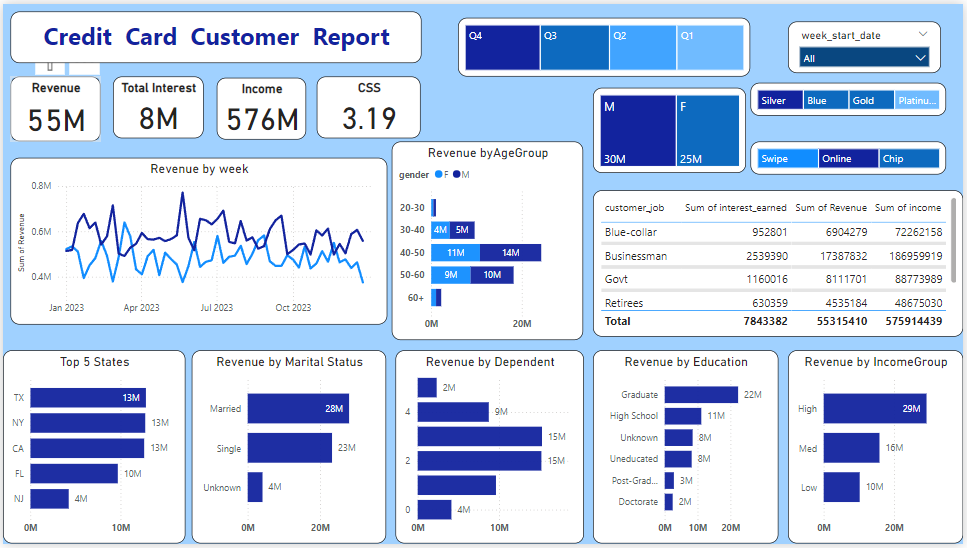

The dashboard page shown, as its layout file describes it:
{"tool":"powerbi","page":{"name":"Page 2","canvas":[1280,720],"ordinal":2},"visuals":[{"type":"tableEx","fields":{"Values":["public cust_detail.customer_job","Sum(public cc_detail.interest_earned)","Sum(public cc_detail.Revenue)","Sum(public cust_detail.income)"]},"box":[786.3,248.4,494,194.9],"z":0},{"type":"card","title":"Revenue","fields":{"Values":["Sum(public cc_detail.Revenue)"]},"box":[9.6,96.1,120,86.4],"z":1000},{"type":"card","title":"Income","fields":{"Values":["Sum(public cust_detail.income)"]},"box":[284.7,97.7,119.4,82],"z":2000},{"type":"card","title":"Total Interest","fields":{"Values":["Sum(public cc_detail.interest_earned)"]},"box":[147.2,96.5,120.6,82],"z":3000},{"type":"card","title":"CSS","fields":{"Values":["Avg(public cust_detail.cust_satisfaction_score)"]},"box":[418.6,96.5,138.7,82],"z":4000},{"type":"slicer","fields":{"Values":["public cc_detail.week_start_date"]},"box":[1047.2,24.1,203.9,68.8],"z":5000},{"type":"treemap","fields":{"Group":["public cc_detail.qtr"],"Values":["Avg(public cc_detail.client_num)"]},"box":[606.8,18.1,389.7,78.4],"z":6000},{"type":"treemap","fields":{"Group":["public cc_detail.card_category"],"Values":["Avg(public cc_detail.client_num)"]},"box":[996.2,105.7,260.7,43.9],"z":8000},{"type":"textbox","box":[9.7,9.7,547.7,68.8],"z":10000},{"type":"lineChart","title":"Revenue by week","fields":{"Y":["Sum(public cc_detail.Revenue)"],"Category":["public cc_detail.week_start_date.Variation.Date Hierarchy.Year","public cc_detail.week_start_date.Variation.Date Hierarchy.Month","public cc_detail.week_start_date.Variation.Date Hierarchy.Day"],"Series":["public cust_detail.gender"]},"box":[9.6,204.5,502.2,222.3],"z":11000},{"type":"treemap","fields":{"Group":["public cust_detail.gender"],"Values":["Sum(public cc_detail.Revenue)"]},"box":[786.6,112.2,203.9,113.4],"z":12000},{"type":"barChart","title":" Revenue by IncomeGroup","fields":{"Category":["public cust_detail.IncomeGroup"],"Y":["Sum(public cc_detail.Revenue)"]},"box":[1047,461.1,233.3,258],"z":13000},{"type":"barChart","title":"Revenue byAgeGroup","fields":{"Category":["public cust_detail.AgeGroup"],"Y":["Sum(public cc_detail.Revenue)"],"Series":["public cust_detail.gender"]},"box":[518.7,182.5,255.2,264.8],"z":14000},{"type":"barChart","title":"Revenue by Dependent","fields":{"Category":["public cust_detail.dependent_count"],"Y":["Sum(public cc_detail.Revenue)"]},"box":[522.8,461.1,251.1,258],"z":15000},{"type":"barChart","title":" Revenue by Education","fields":{"Category":["public cust_detail.education_level"],"Y":["Sum(public cc_detail.Revenue)"]},"box":[786.3,461.1,247,258],"z":16000},{"type":"barChart","title":"Top 5 States","fields":{"Category":["public cust_detail.state_cd"],"Y":["Sum(public cc_detail.Revenue)"]},"box":[0,462.4,242.9,258],"z":17000},{"type":"barChart","title":"Revenue by Marital Status","fields":{"Category":["public cust_detail.marital_status"],"Y":["Sum(public cc_detail.Revenue)"]},"box":[252.5,462.4,259.3,258],"z":18000},{"type":"treemap","fields":{"Group":["public cc_detail.use_chip"],"Values":["Avg(public cc_detail.client_num)"]},"box":[996.2,182.5,260.7,43.9],"z":18001}]}

Visuals, with their boxes in screenshot pixels (x1, y1, x2, y2), scaled from the page's 1280x720 canvas onto the 967x548 screenshot:
tableEx - public cust_detail.customer_job x Sum(public cc_detail.interest_earned): select_region(594, 189, 966, 337)
"Revenue" card: select_region(7, 73, 98, 139)
"Income" card: select_region(215, 74, 305, 137)
"Total Interest" card: select_region(111, 73, 202, 136)
"CSS" card: select_region(316, 73, 421, 136)
slicer - public cc_detail.week_start_date: select_region(791, 18, 945, 71)
treemap - public cc_detail.qtr x Avg(public cc_detail.client_num): select_region(458, 14, 753, 73)
treemap - public cc_detail.card_category x Avg(public cc_detail.client_num): select_region(753, 80, 950, 114)
textbox: select_region(7, 7, 421, 60)
"Revenue by week" lineChart: select_region(7, 156, 387, 325)
treemap - public cust_detail.gender x Sum(public cc_detail.Revenue): select_region(594, 85, 748, 172)
" Revenue by IncomeGroup" barChart: select_region(791, 351, 966, 547)
"Revenue byAgeGroup" barChart: select_region(392, 139, 585, 340)
"Revenue by Dependent" barChart: select_region(395, 351, 585, 547)
" Revenue by Education" barChart: select_region(594, 351, 781, 547)
"Top 5 States" barChart: select_region(0, 352, 184, 547)
"Revenue by Marital Status" barChart: select_region(191, 352, 387, 547)
treemap - public cc_detail.use_chip x Avg(public cc_detail.client_num): select_region(753, 139, 950, 172)
